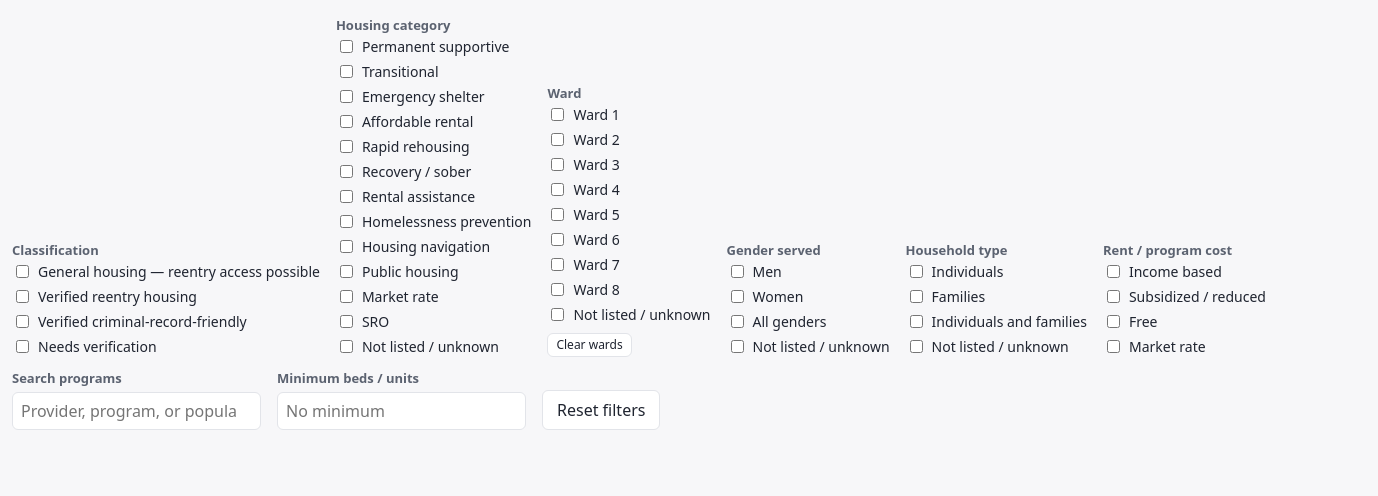
Test: FilterPanel › minimum beds / units › rejects -2 without committing and shows an error
In the number field labelled "Minimum beds / units": (402, 411) top-left (277, 392), bottom-right (526, 430), type "-2"
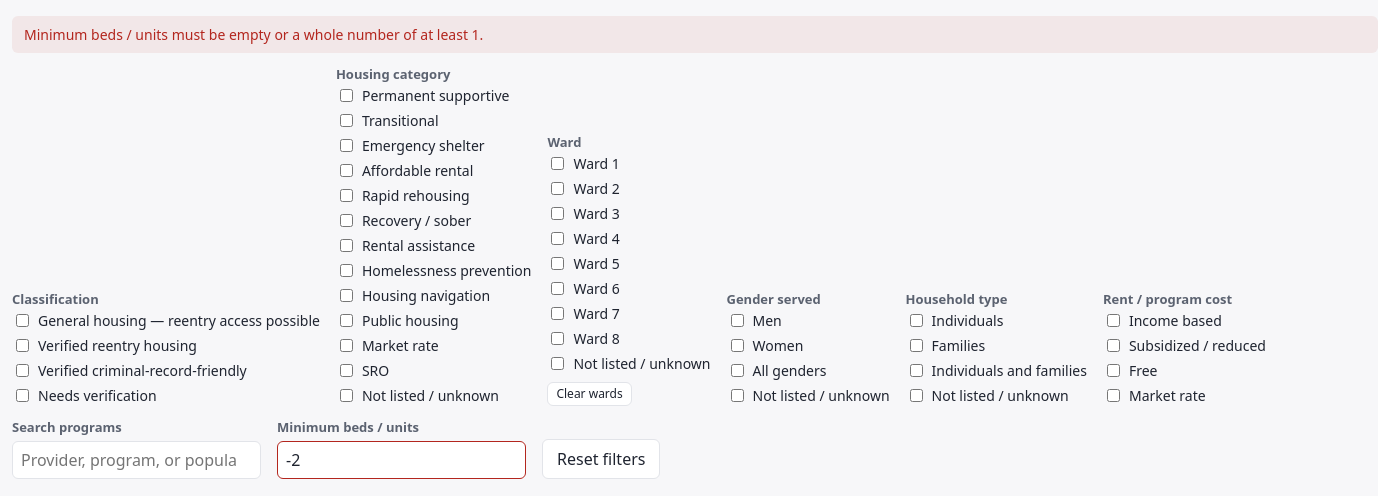
Expected: the message shows "whole number", top-left (24, 25), bottom-right (483, 44)
